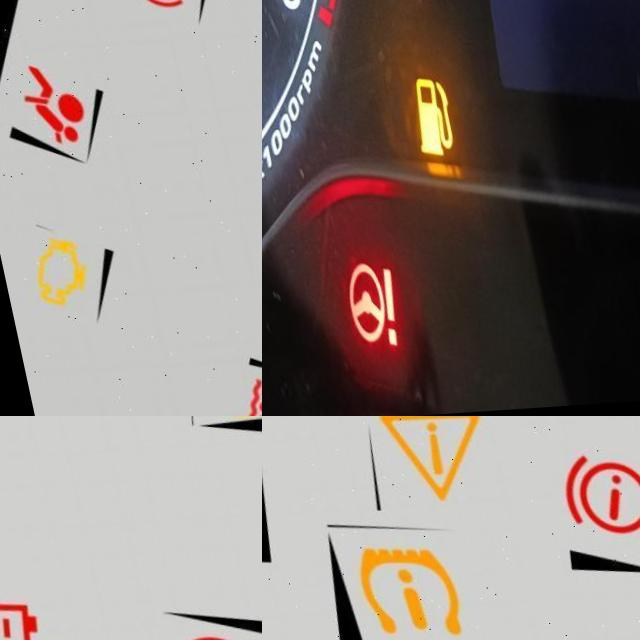Electronic Power Steering: (311, 245, 389, 366)
